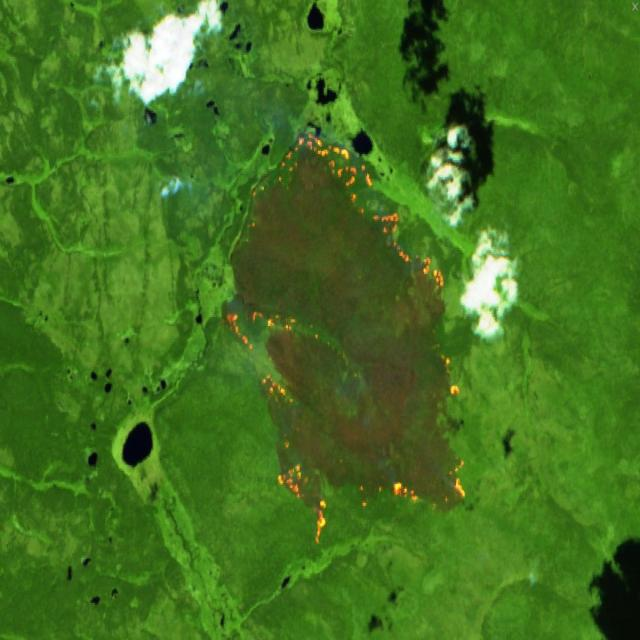fire: (218, 306, 478, 567), (272, 116, 452, 294)
